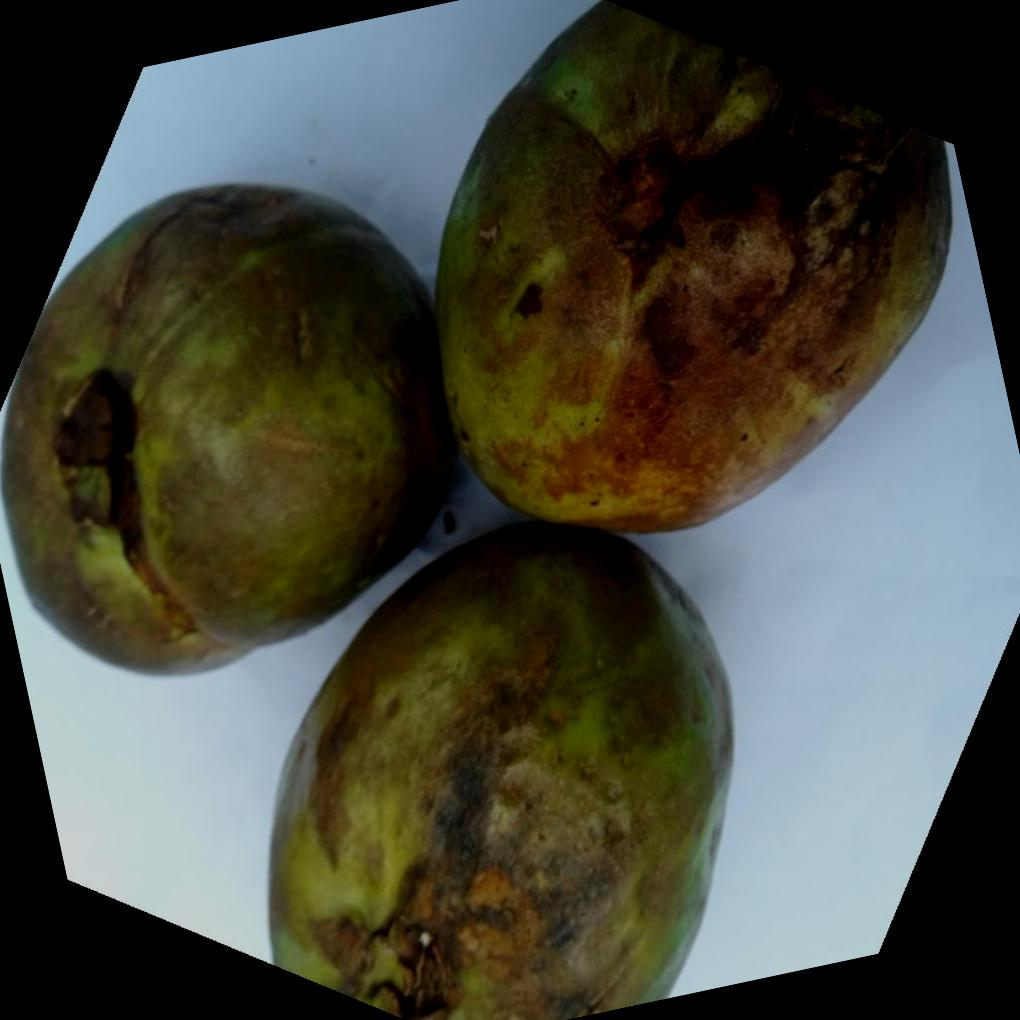FreshOrange: (0, 6, 951, 1020)
